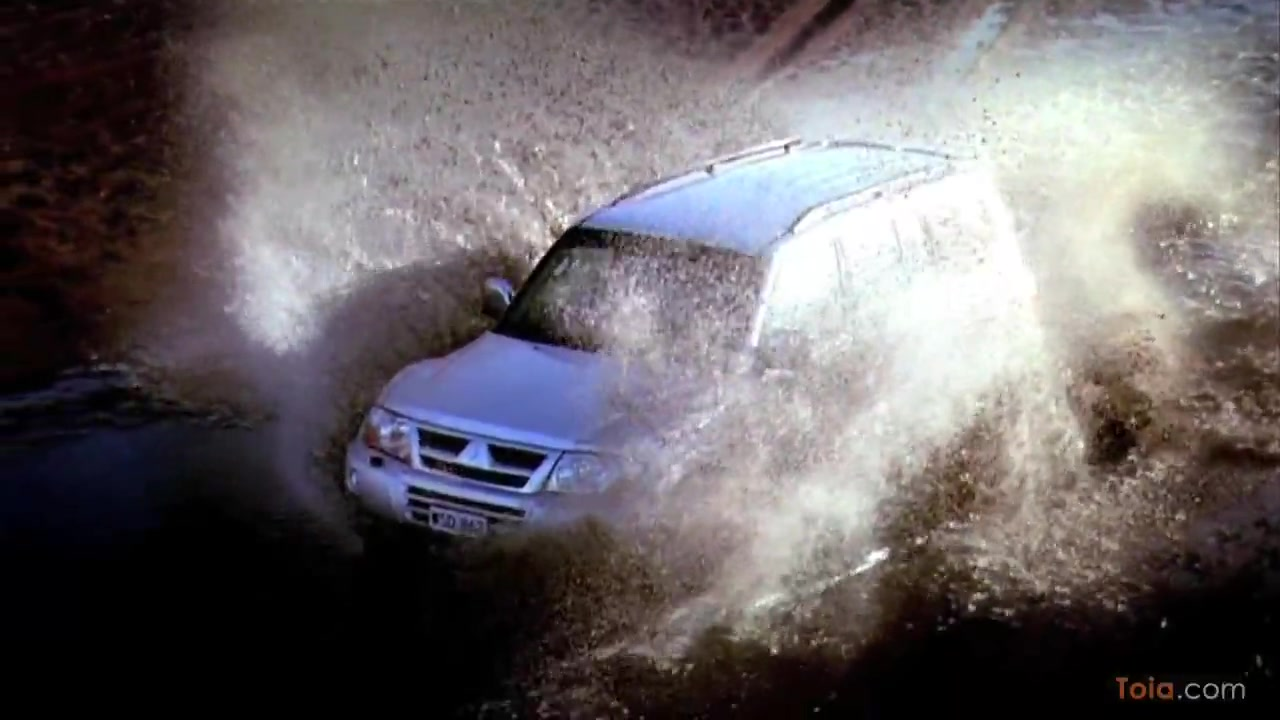car: (341, 133, 1049, 581)
